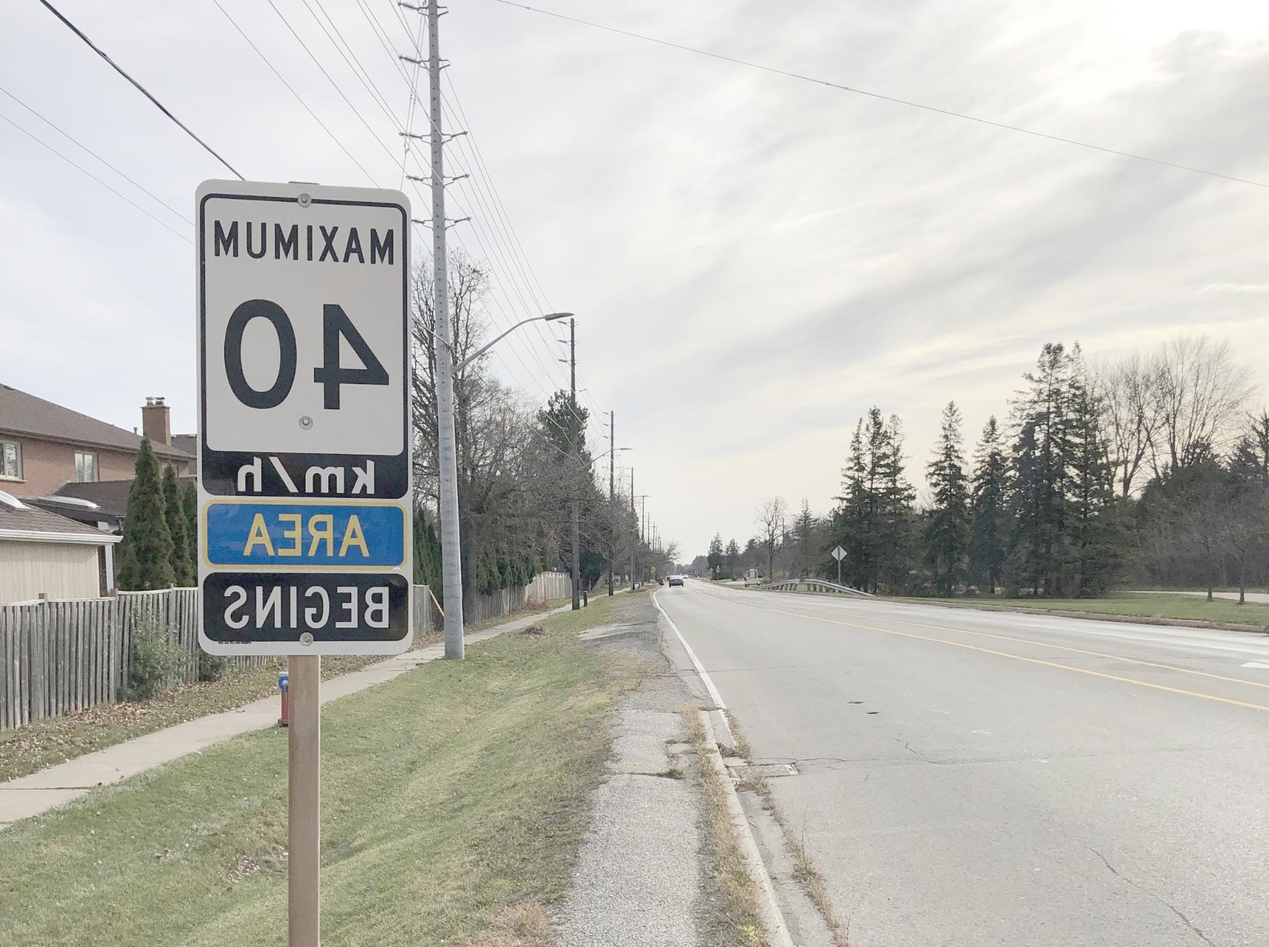speed limit sign: (197, 188, 417, 496)
